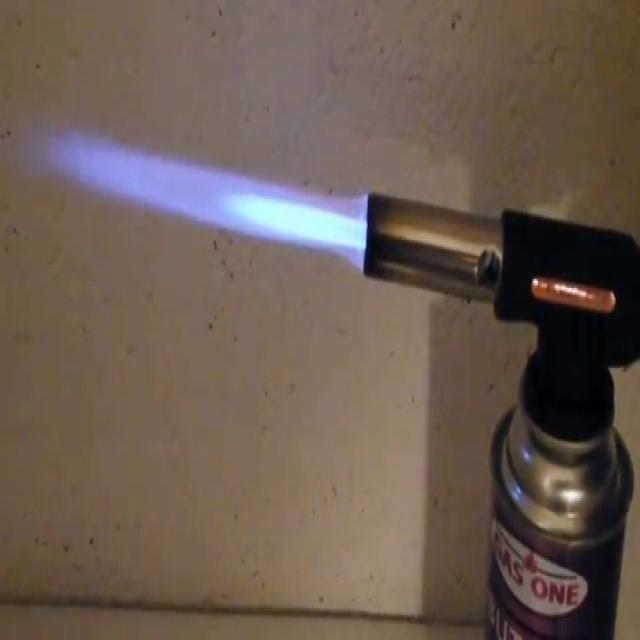fire: (21, 98, 373, 316)
